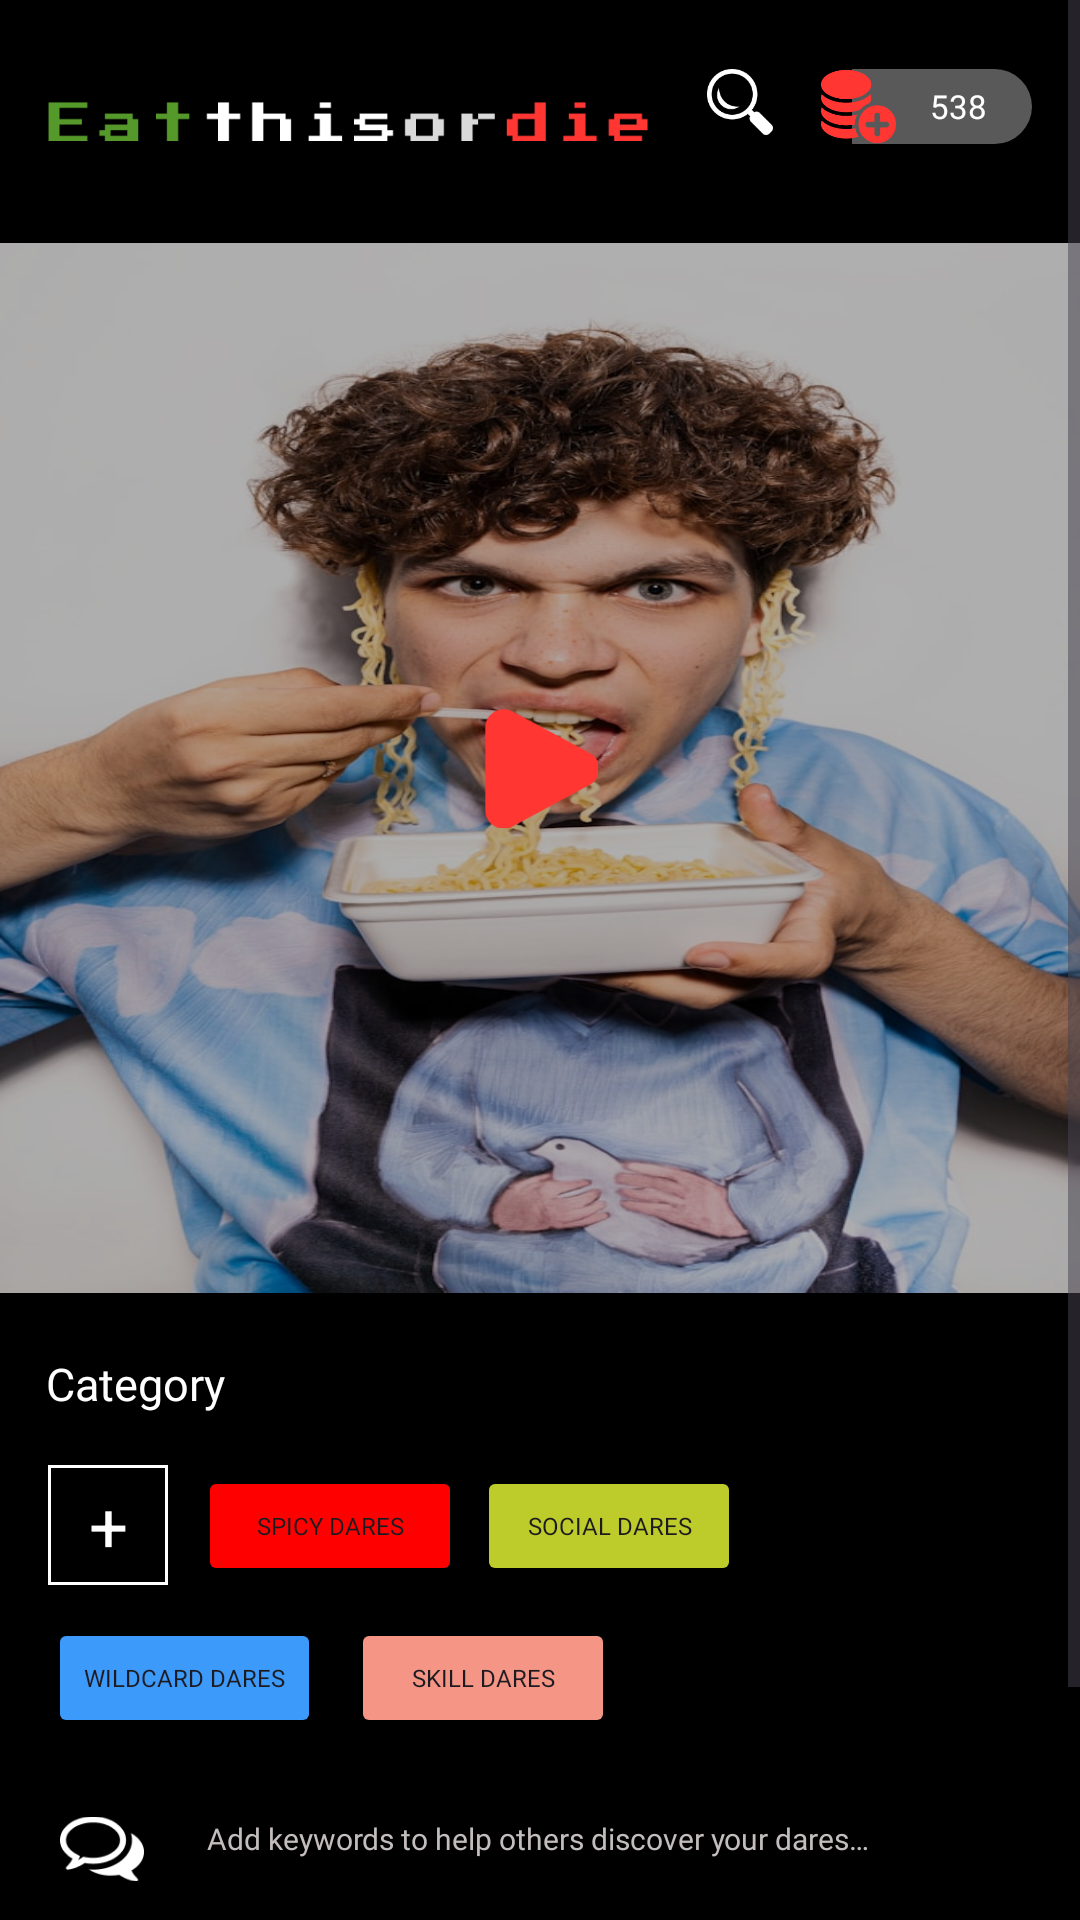

Icons on this 1080x1920 Android screen, each with the point to tap as (x=x, y=y):
coins: (x=858, y=106)
comment: (x=102, y=1849)
play: (x=540, y=768)
search: (x=740, y=102)
